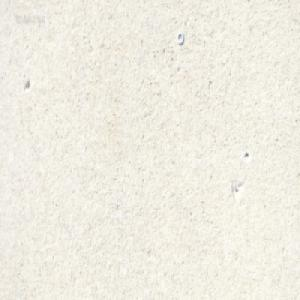Washer: (176, 30, 184, 45)
